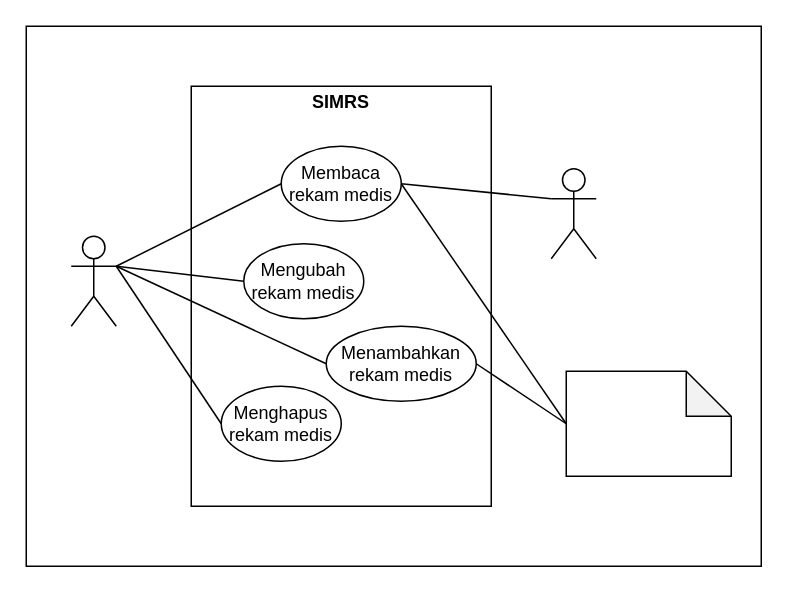
This 788x593 diagram has some shape labels left out. Each missing label, with the box of its shape:
Admin: (70, 235, 116, 326)
API Satu Sehat: (565, 370, 731, 476)
Pasien: (550, 167, 596, 259)
